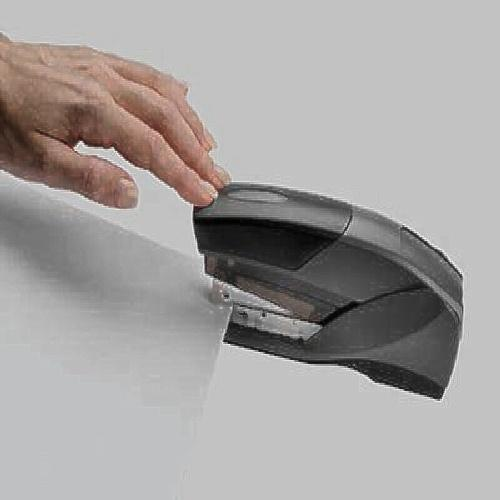stapler: (183, 167, 470, 407)
